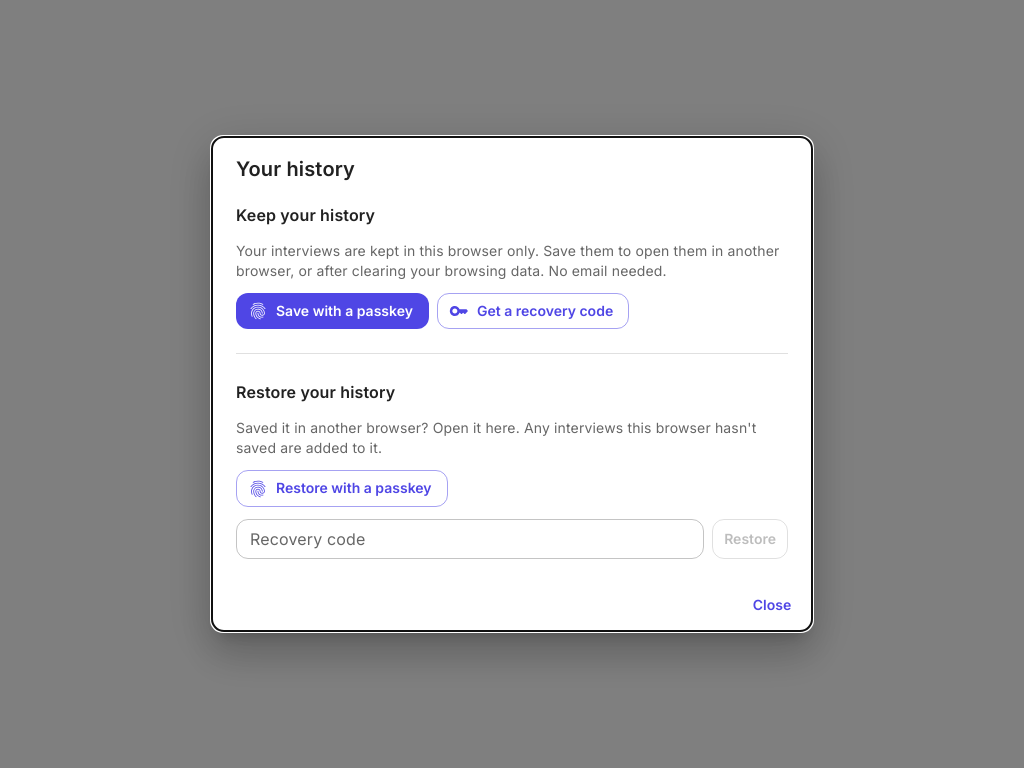
AccountDialog › shows the server's message when a code doesn't match
This screenshot has width=1024, height=768.
In the field labelled "Recovery code": (470, 539) [236,519,704,559], type "WRONG"
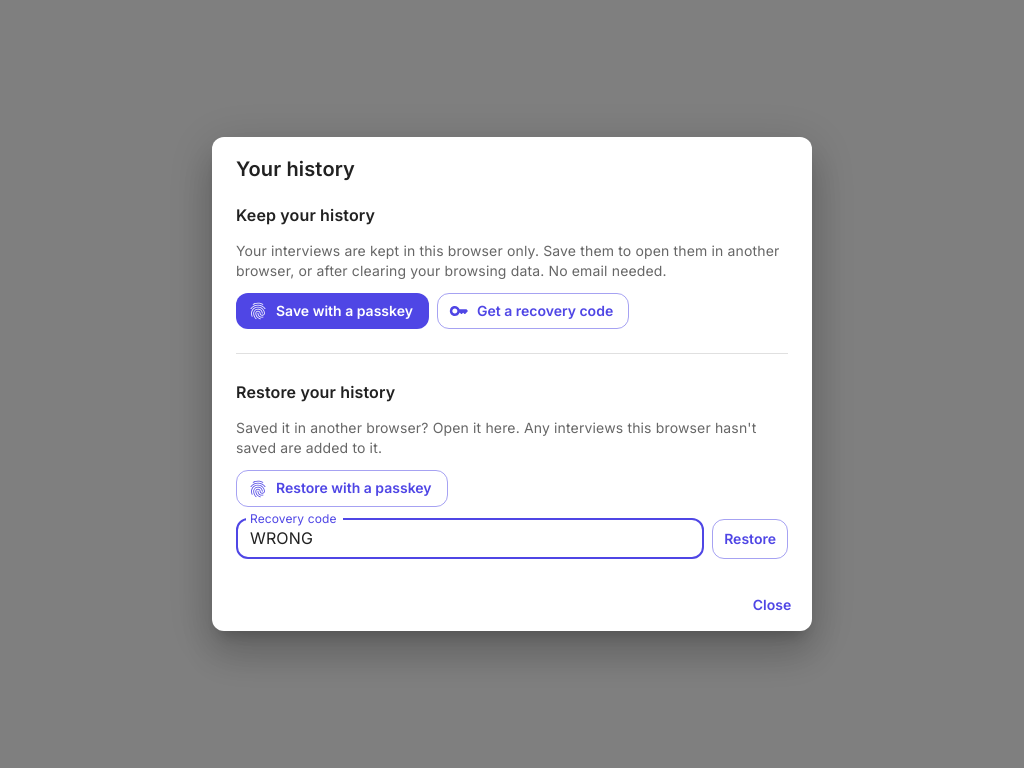
Click the button "Restore": (750, 539) [712,519,788,559]
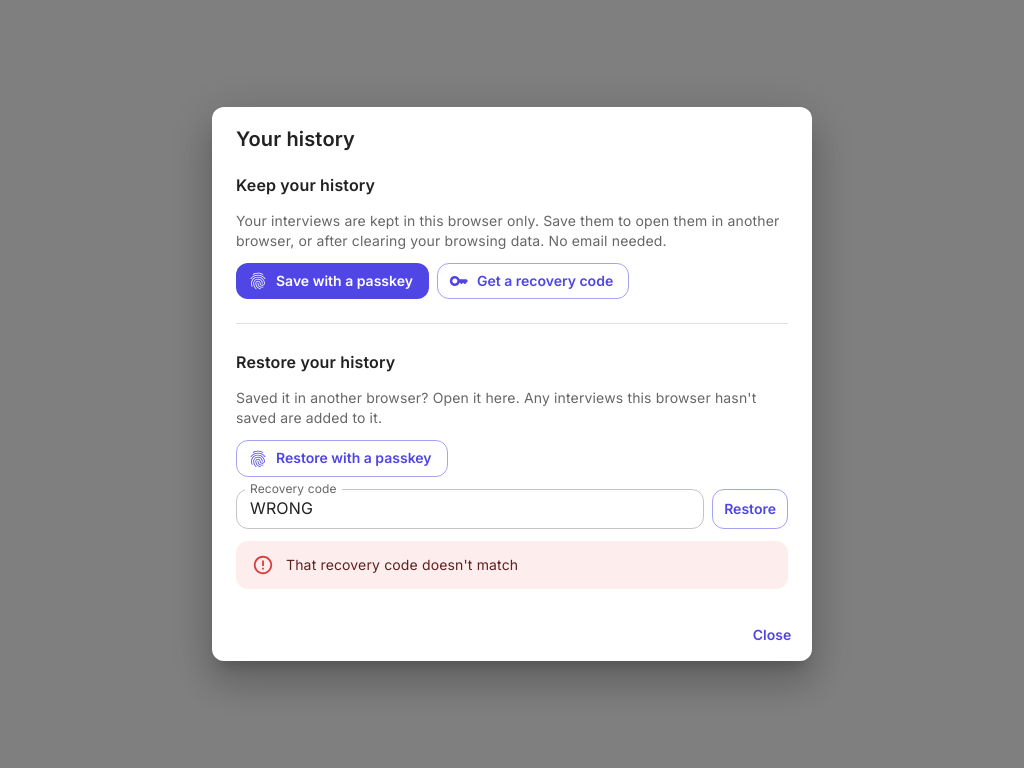
Expected: the text "That recovery code doesn't match" is shown, [286,556,518,573]
